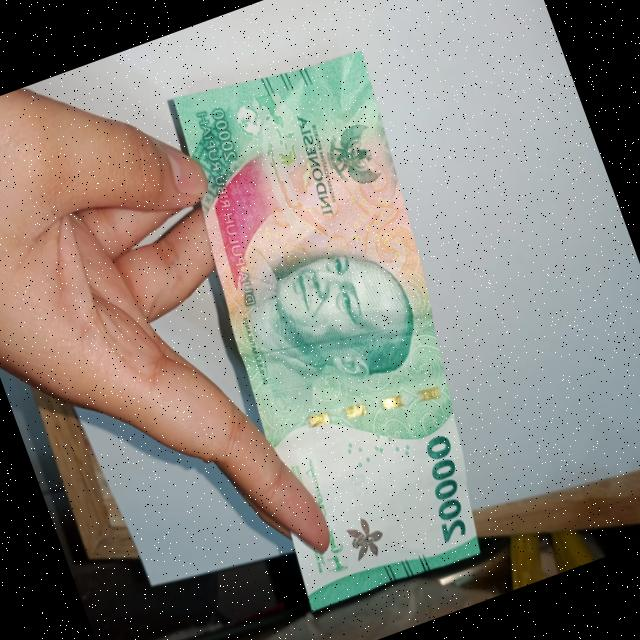20K: (126, 25, 547, 620)
